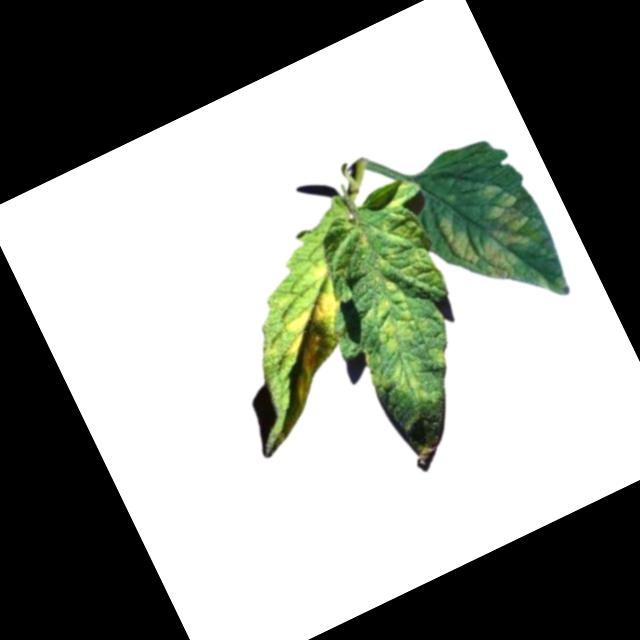Leaf_Mold: (429, 167, 554, 296), (350, 273, 455, 413), (260, 285, 373, 407), (357, 197, 452, 308), (305, 259, 332, 285)
